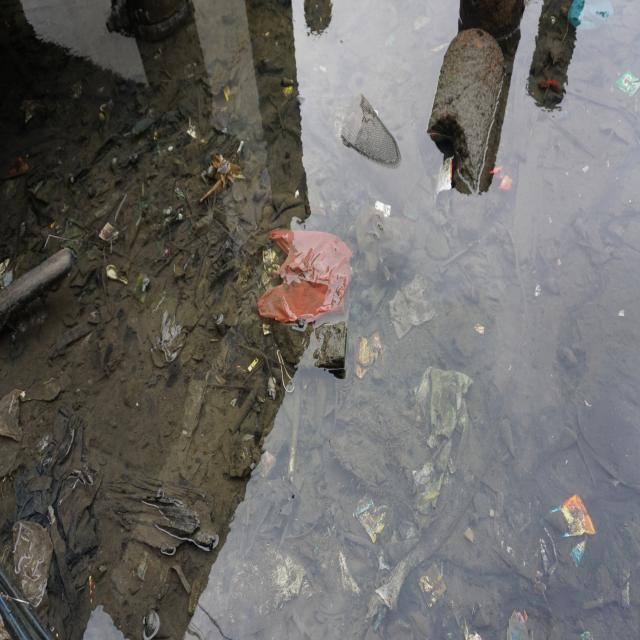Kantong Plastik: (258, 225, 354, 326)
